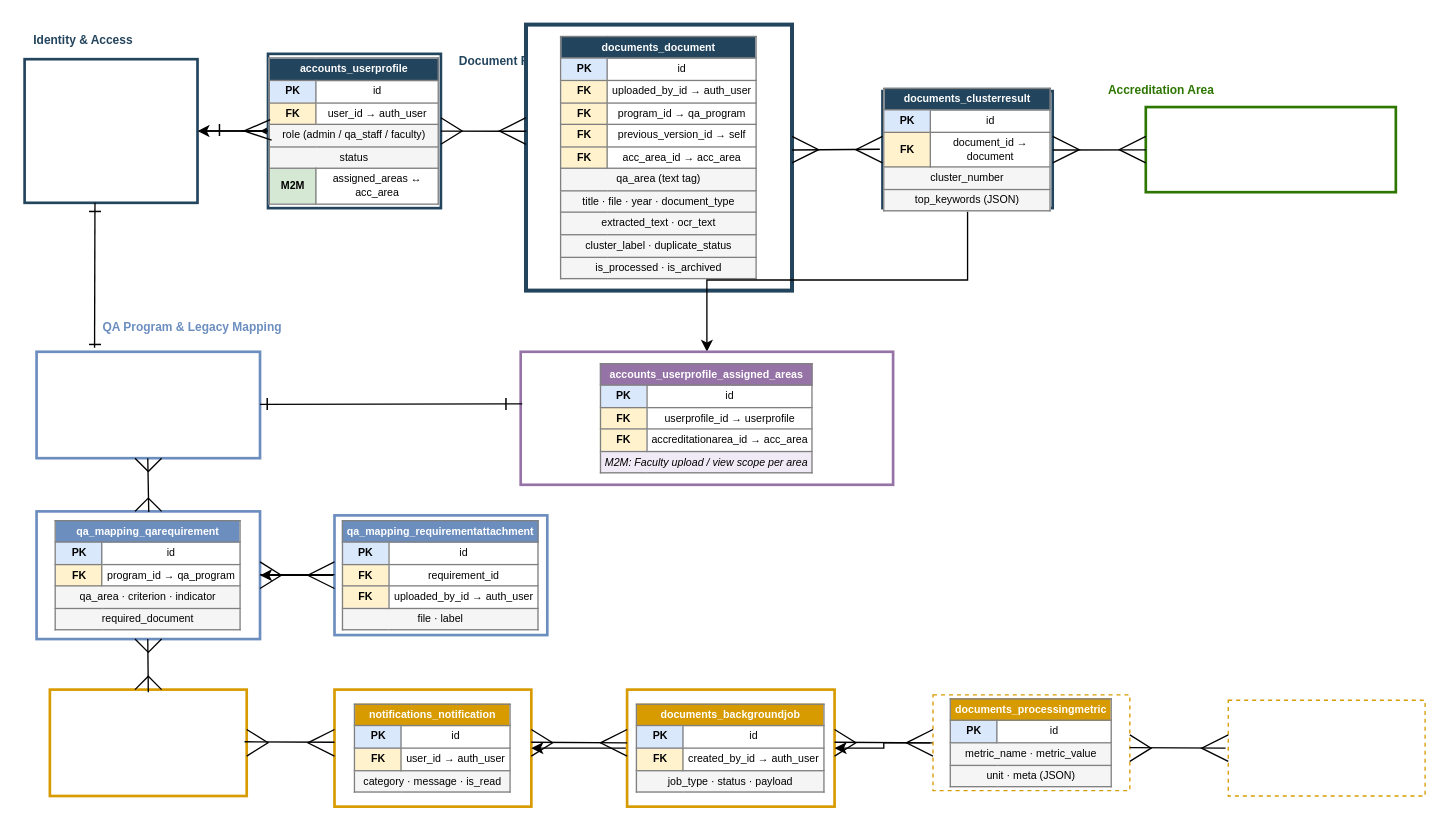
The diagram is 1448 pixels wide and 831 high, and some of its shapes have lost their labels. Each missing label, with the centre of its shape:
auth_user PK id username email password is_active: [110,130]
chatbot_chatbotfaq PK id question · answer category · keywords (JSON): [1326,747]
documents_activitylog PK id FK user_id → auth_user action · description: [147,742]
qa_mapping_qaprogram PK id name · code is_active: [148,404]
qa_structure_accreditationarea PK id area_code · area_name: [1270,149]
